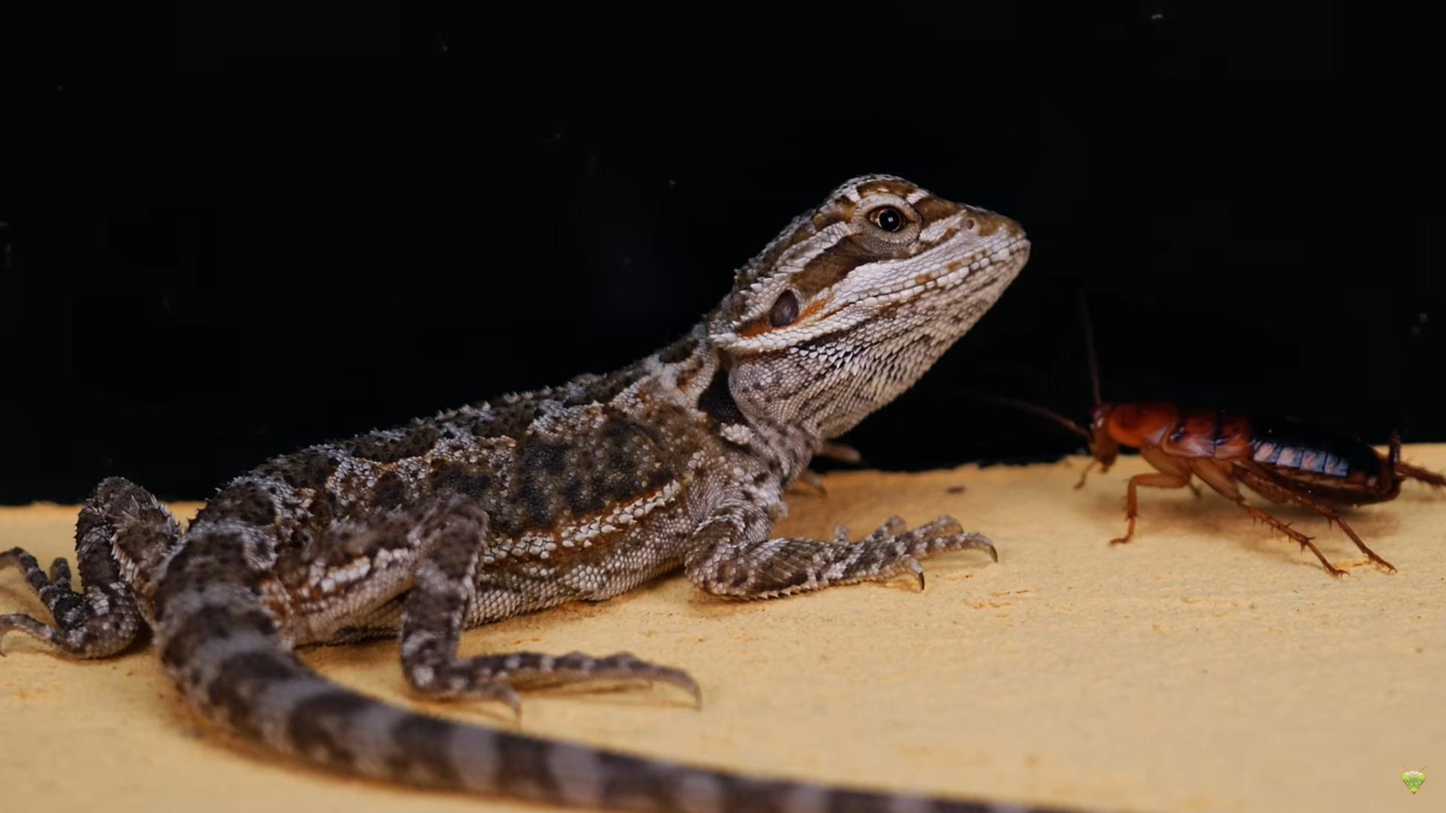cockroach: (1060, 366, 1446, 595)
lizard: (46, 158, 1033, 779)
